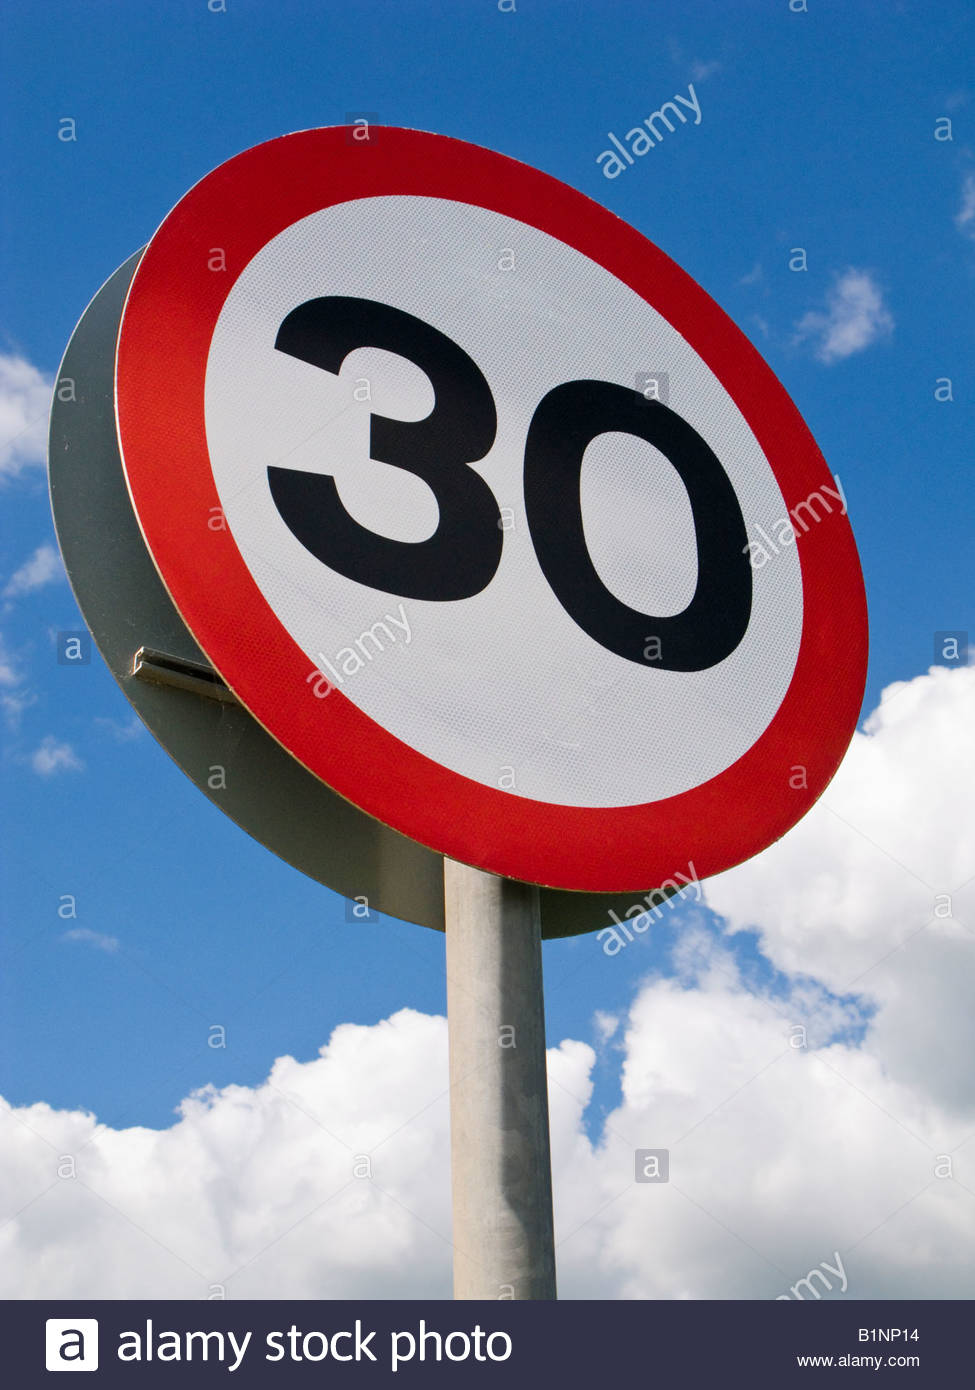Speed_limit_30km: (125, 114, 876, 891)
